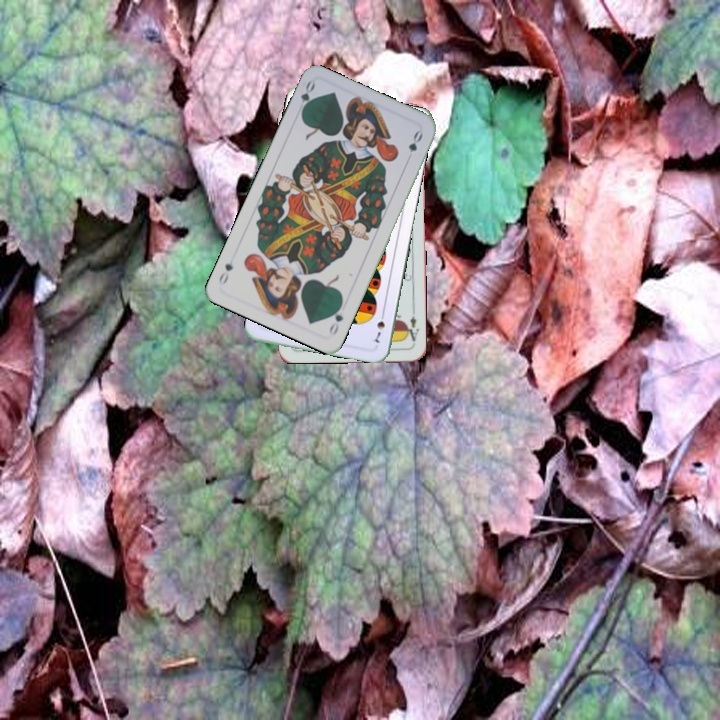EA: (402, 306, 422, 346)
GO: (293, 77, 318, 118), (325, 299, 346, 338)
S7: (368, 307, 388, 346)
